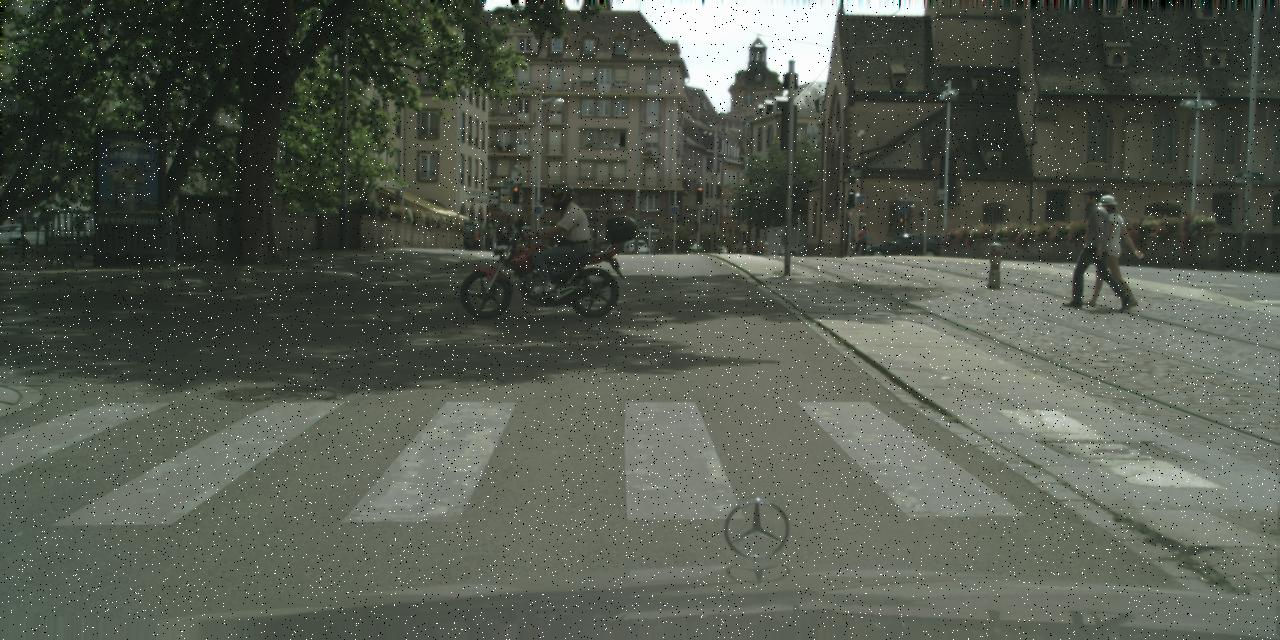ped: (1072, 188, 1122, 306), (532, 184, 578, 298), (1086, 195, 1131, 306), (856, 224, 868, 253), (759, 237, 766, 255)
